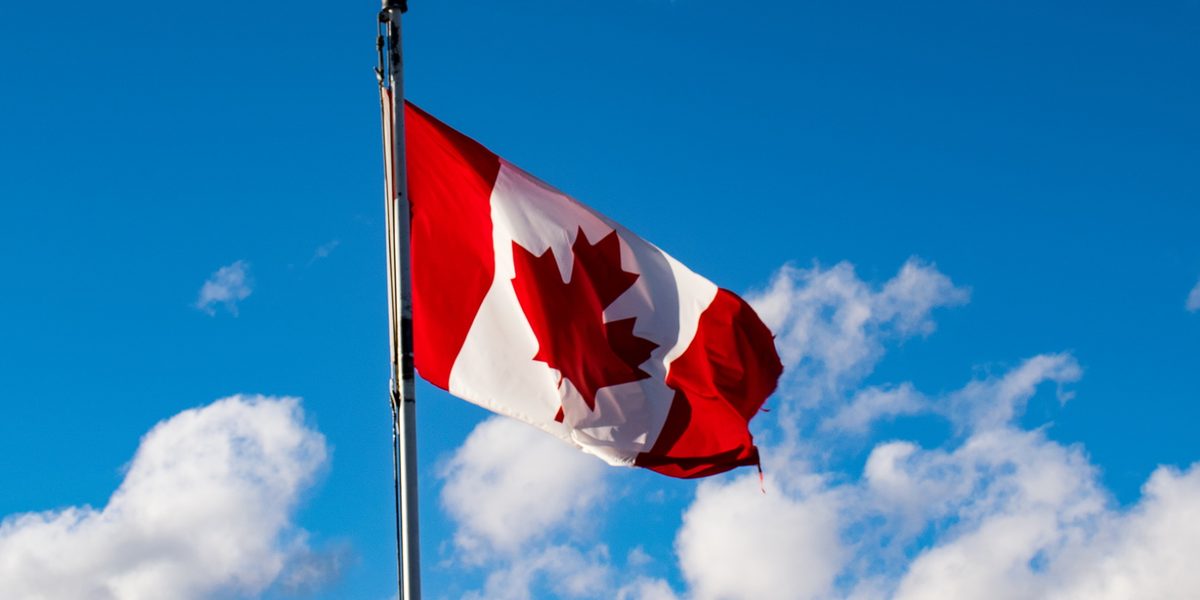Canada flag: (395, 97, 785, 488)
